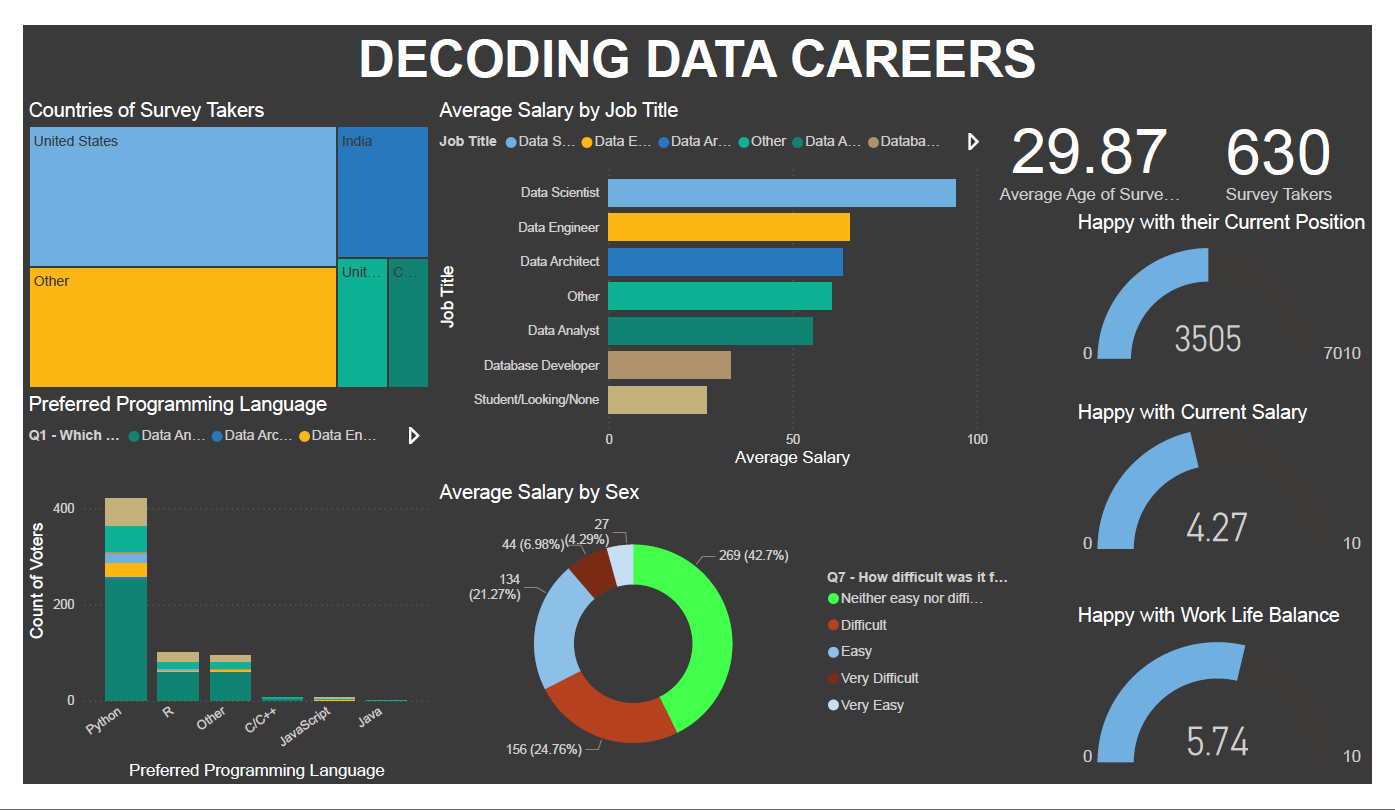

What the dashboard file says about the page in this screenshot:
{"tool":"powerbi","page":{"name":"Page 1","canvas":[1280,720],"ordinal":0},"visuals":[{"type":"card","fields":{"Values":["Count(Data Professional Survey.Unique ID)"]},"box":[1104.3,71.4,175.7,104.3],"z":0},{"type":"textbox","box":[0,0,1280,70],"z":2},{"type":"card","fields":{"Values":["Avg(Data Professional Survey.Q10 - Current Age)"]},"box":[921.4,70,182.9,105.7],"z":3},{"type":"barChart","title":"Average Salary by Job Title","fields":{"Y":["Avg(Data Professional Survey.Average Salary)"],"Category":["Data Professional Survey.Q1 - Which Title Best Fits your Current Role?.1"],"Series":["Data Professional Survey.Q1 - Which Title Best Fits your Current Role?.1"]},"box":[390,70,531.4,354.3],"z":4},{"type":"columnChart","title":"Preferred Programming Language","fields":{"Category":["Data Professional Survey.Q5 - Favorite Programming Language.1"],"Y":["CountNonNull(Data Professional Survey.Unique ID)"],"Series":["Data Professional Survey.Q1 - Which Title Best Fits your Current Role?.1"]},"box":[0,348.6,390,372.9],"z":5},{"type":"treemap","title":"Countries of Survey Takers","fields":{"Values":["CountNonNull(Data Professional Survey.Q11 - Which Country do you live in?.1)"],"Group":["Data Professional Survey.Q11 - Which Country do you live in?.1"]},"box":[0,70,390,278.6],"z":6},{"type":"gauge","title":"Happy with Work Life Balance","fields":{"Y":["Avg(Data Professional Survey.Q6 - How Happy are you in your Current Position with the following? (Work/Life Balance))"],"MinValue":["Min(Data Professional Survey.Q6 - How Happy are you in your Current Position with the following? (Work/Life Balance))"],"MaxValue":["Max(Data Professional Survey.Q6 - How Happy are you in your Current Position with the following? (Work/Life Balance))1"]},"box":[995.7,548.6,284.3,171.4],"z":7},{"type":"gauge","title":"Happy with Current Salary","fields":{"Y":["Avg(Data Professional Survey.Q6 - How Happy are you in your Current Position with the following? (Salary))"],"MinValue":["Min(Data Professional Survey.Q6 - How Happy are you in your Current Position with the following? (Salary))"],"MaxValue":["Max(Data Professional Survey.Q6 - How Happy are you in your Current Position with the following? (Salary))"]},"box":[995.7,357.1,284.3,150],"z":8},{"type":"donutChart","title":"Average Salary by Sex","fields":{"Category":["Data Professional Survey.Q7 - How difficult was it for you to break into Data?","Data Professional Survey.Average Salary"],"Y":["CountNonNull(Data Professional Survey.Q9 - Male/Female?)"]},"box":[390,432.9,552.9,287.1],"z":10},{"type":"gauge","title":"Happy with their Current Position","fields":{"Y":["Sum(Data Professional Survey.Q6 - How Happy are you in your Current Position with the following? (Learning New Things))"]},"box":[995.7,175.7,284.3,160],"z":11}]}

Visuals, with their boxes on the page's 1280x720 design canvas (x1, y1, x2, y2). These are canvas units, not pixel positions in the 1395x810 screenshot, which may show the page scaled, cropped or inside an application window:
card - Count(Data Professional Survey.Unique ID): 1104, 71, 1280, 176
textbox: 0, 0, 1280, 70
card - Avg(Data Professional Survey.Q10 - Current Age): 921, 70, 1104, 176
"Average Salary by Job Title" barChart: 390, 70, 921, 424
"Preferred Programming Language" columnChart: 0, 349, 390, 722
"Countries of Survey Takers" treemap: 0, 70, 390, 349
"Happy with Work Life Balance" gauge: 996, 549, 1280, 720
"Happy with Current Salary" gauge: 996, 357, 1280, 507
"Average Salary by Sex" donutChart: 390, 433, 943, 720
"Happy with their Current Position" gauge: 996, 176, 1280, 336
